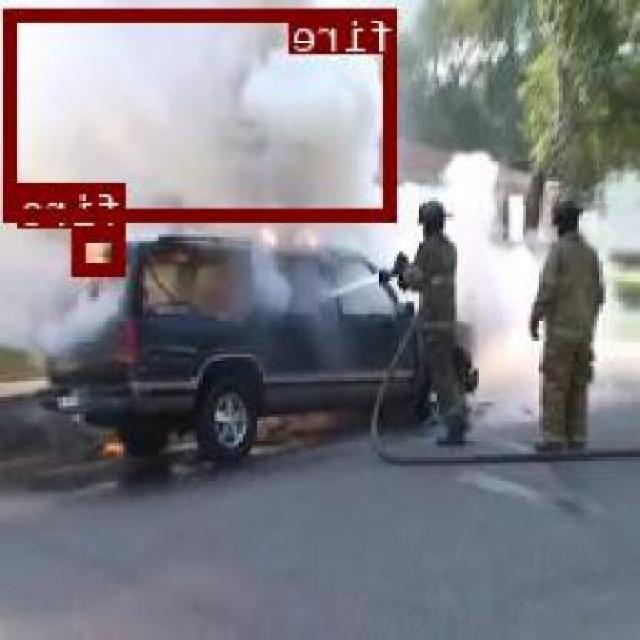Fire: (76, 227, 127, 273)
Smoke: (8, 7, 398, 220)
